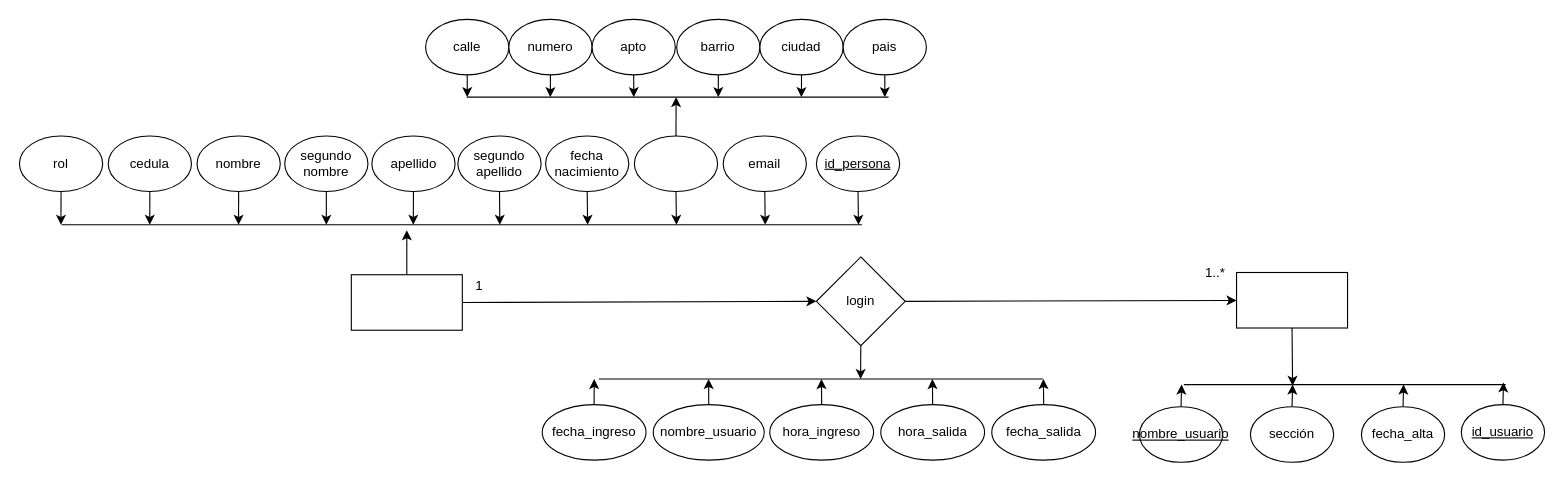
This 1564x482 diagram has some shape labels left out. The centre of each missing label's shape, as x and y in pixels:
direccion: point 675,163
Persona: point 406,302
Usuario: point 1291,299
